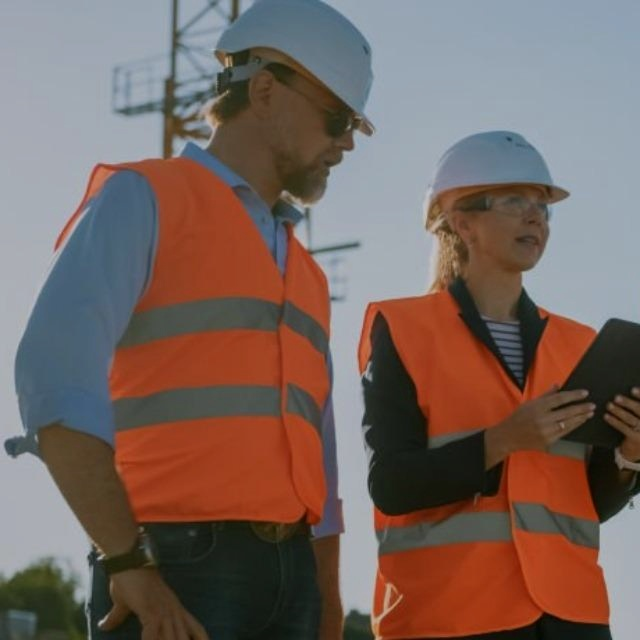Con_Casco: (202, 0, 382, 199), (426, 130, 570, 275)
Con_Chaleco: (74, 161, 336, 535), (360, 295, 616, 640)
